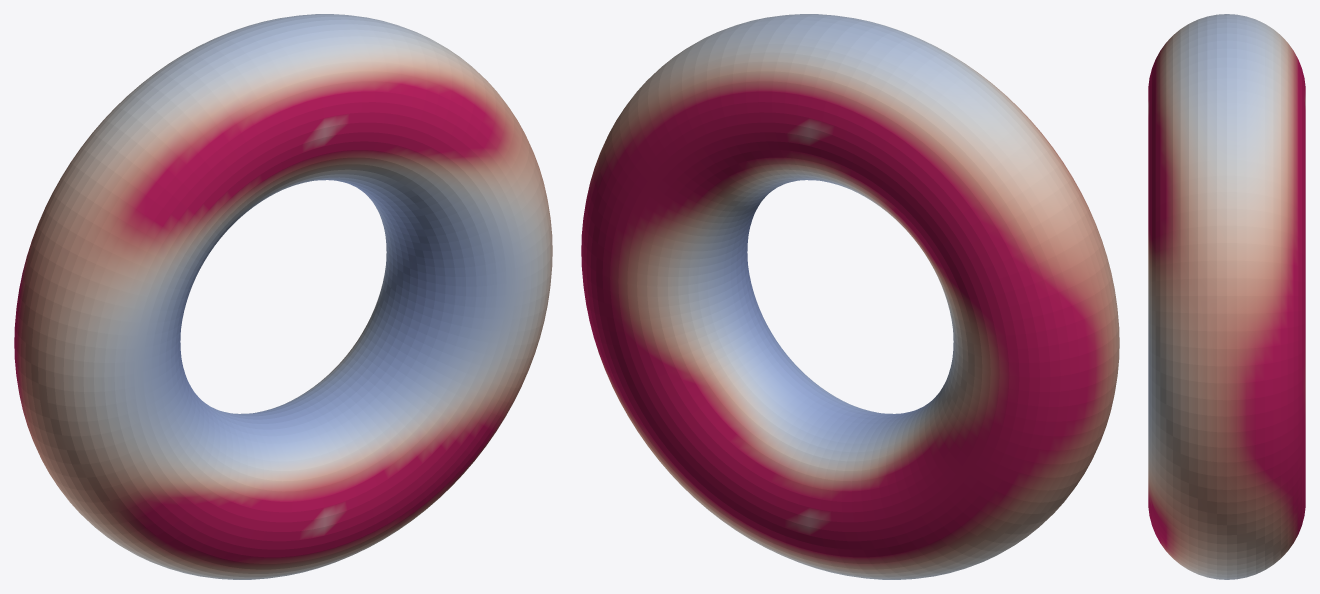
The picture shows the model from 3 angles, left to right: view 1: azimuth 30°, elevation 25°; view 2: azimuth 150°, elevation 25°; view 3: azimuth 270°, elevation 25°; orthographic projection. The views are drawn at different scales.
Parts seen in each view (by area): view 1: world; view 2: world; view 3: world.
Boxes of the visible parts, left/top/right/bottom form: world: left=14, top=14, right=552, bottom=579; world: left=581, top=14, right=1119, bottom=579; world: left=1148, top=14, right=1305, bottom=579.
Bounding box in the file's own units: 23.11 × 23.11 × 6.43.
